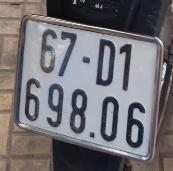0: (99, 94, 120, 142)
1: (118, 40, 136, 92)
6: (124, 100, 146, 150), (39, 27, 57, 74), (24, 75, 42, 122)
7: (57, 30, 78, 78)
8: (69, 87, 89, 134)
9: (46, 80, 64, 128)
D: (95, 37, 117, 87)
